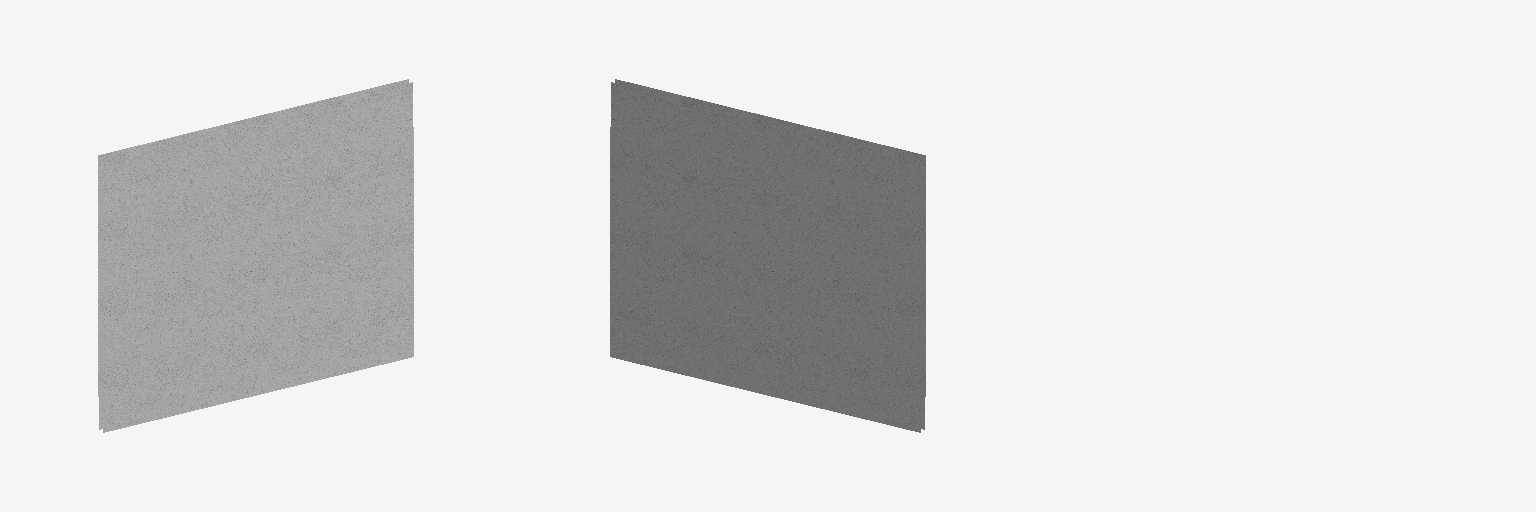
3 views of the same model, side by side, from view 1: azimuth 30°, elevation 25°; view 2: azimuth 150°, elevation 25°; view 3: azimuth 270°, elevation 25° (orthographic).
Parts seen in each view (by area): view 1: floor_12; view 2: floor_12; view 3: none.
Part boxes in pixels (left/top/right/bottom): floor_12: left=98, top=79, right=413, bottom=432; floor_12: left=610, top=79, right=925, bottom=432.
Size of the model in its own units: 4.35 by 3.67 by 0.1.
1 materials, 1 textured.